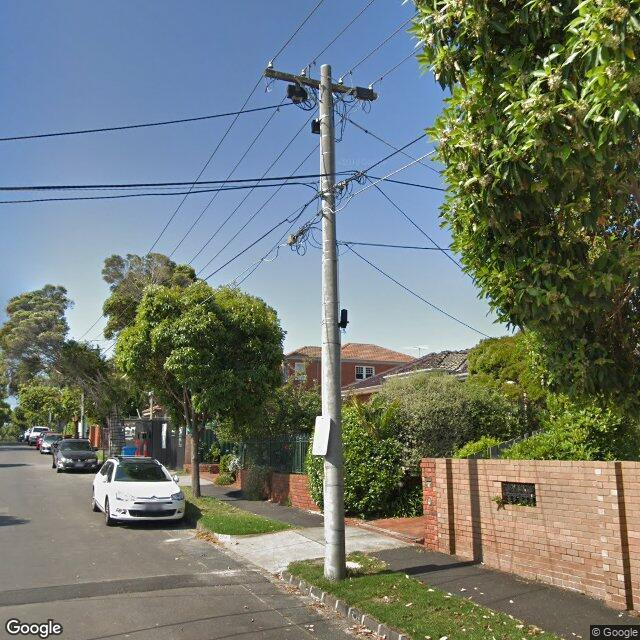crossarm: (264, 61, 380, 102)
timber-pole: (320, 65, 348, 583)
